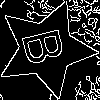B: (20, 24, 75, 68)
